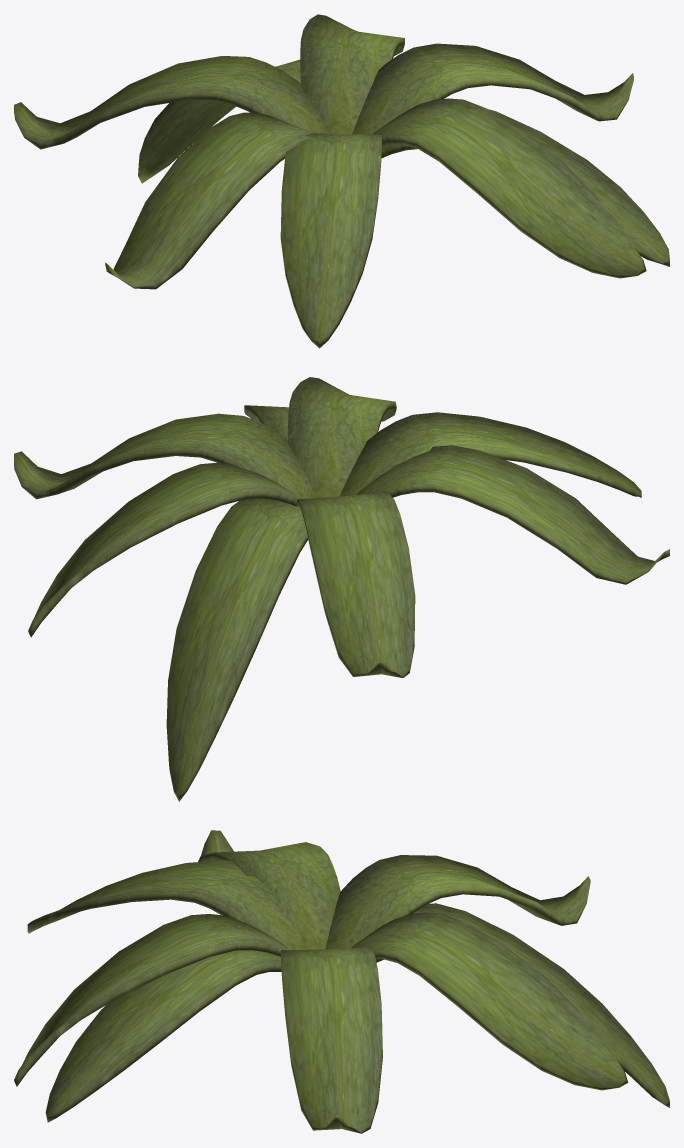
The model's file is calyx8_1002.dae.
The picture shows the model from 3 angles, top to bottom: view 1: azimuth 30°, elevation 25°; view 2: azimuth 150°, elevation 25°; view 3: azimuth 270°, elevation 25°; orthographic projection.
Parts seen in each view (by area): view 1: calyx8, calyx6_001, calyx7_003, calyx7_002, calyx7, calyx8_001, calyx6, calyx9; view 2: calyx9, calyx7_002, calyx7_003, calyx7, calyx8_001, calyx6_001, calyx8, calyx6; view 3: calyx8_001, calyx7, calyx6, calyx7_002, calyx8, calyx6_001, calyx7_003, calyx9.
Part boxes in pixels (x1=…): calyx8: x1=373, y1=98, x2=646, y2=278; calyx6_001: x1=280, y1=133, x2=381, y2=348; calyx7_003: x1=105, y1=112, x2=315, y2=289; calyx7_002: x1=14, y1=56, x2=329, y2=149; calyx7: x1=352, y1=43, x2=633, y2=134; calyx8_001: x1=300, y1=14, x2=404, y2=134; calyx6: x1=381, y1=109, x2=669, y2=266; calyx9: x1=138, y1=59, x2=300, y2=183; calyx9: x1=166, y1=498, x2=307, y2=801; calyx7_002: x1=297, y1=492, x2=415, y2=677; calyx7_003: x1=356, y1=445, x2=669, y2=584; calyx7: x1=14, y1=413, x2=317, y2=499; calyx8_001: x1=28, y1=462, x2=300, y2=637; calyx6_001: x1=339, y1=412, x2=641, y2=497; calyx8: x1=288, y1=377, x2=396, y2=497; calyx6: x1=244, y1=405, x2=288, y2=440; calyx8_001: x1=351, y1=912, x2=628, y2=1090; calyx7: x1=281, y1=947, x2=382, y2=1133; calyx6: x1=45, y1=950, x2=281, y2=1122; calyx7_002: x1=325, y1=855, x2=590, y2=949; calyx8: x1=14, y1=914, x2=290, y2=1086; calyx6_001: x1=27, y1=860, x2=307, y2=957; calyx7_003: x1=198, y1=830, x2=340, y2=949; calyx9: x1=376, y1=903, x2=669, y2=1107.
Bounding box in the file's own units: 0.13 × 0.1249 × 0.0455.
Materials: 8 (8 with a texture image).
